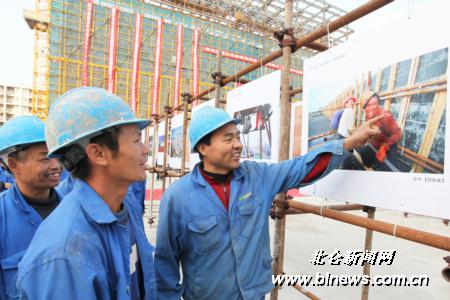helmet: (41, 84, 154, 190), (0, 112, 64, 190), (184, 101, 250, 171), (357, 86, 379, 117), (340, 93, 357, 108)
